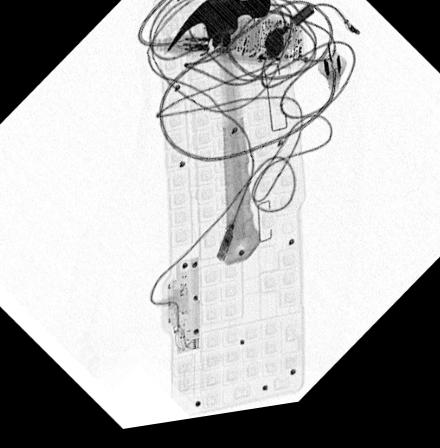Hammer: (169, 0, 271, 273)
